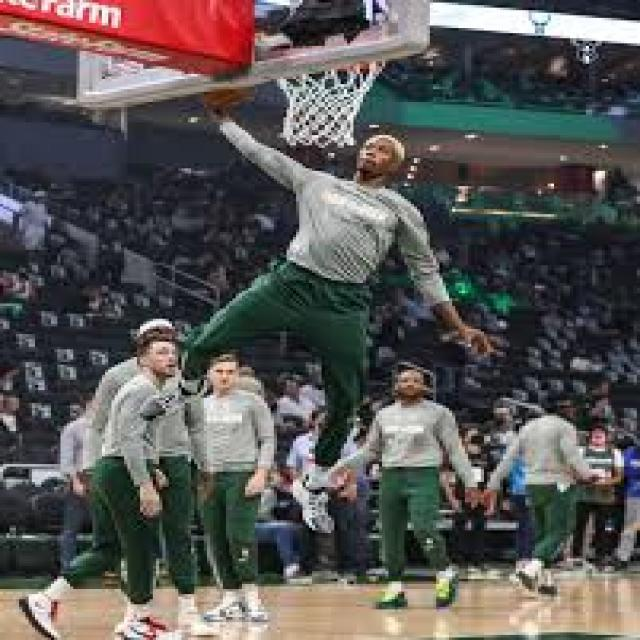rim: (197, 84, 258, 110)
